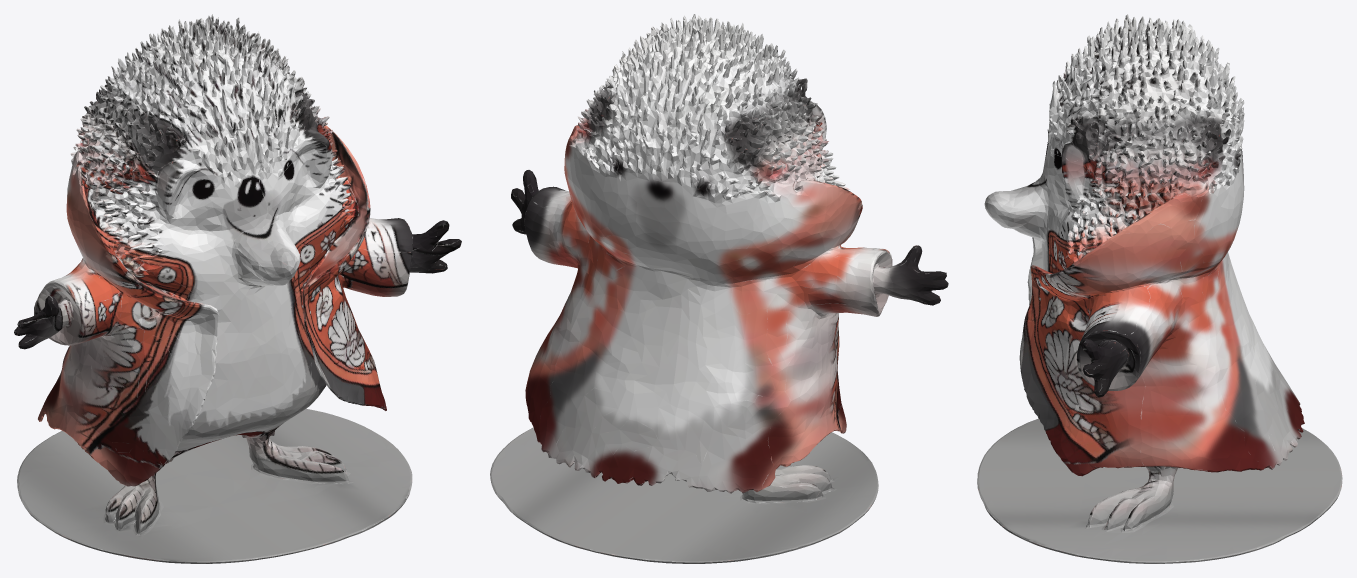
Rendered from quillback_townsperson_local.glb.
3 renders of one model, left to right at view 1: azimuth 30°, elevation 25°; view 2: azimuth 150°, elevation 25°; view 3: azimuth 270°, elevation 25°, orthographic. The views are drawn at different scales.
Visible parts, largest first — view 1: geometry_0; view 2: geometry_0; view 3: geometry_0.
Boxes of the visible parts, left/top/right/bottom form: geometry_0: left=14, top=14, right=461, bottom=563; geometry_0: left=490, top=14, right=948, bottom=563; geometry_0: left=977, top=14, right=1342, bottom=563.
Bounding box in the file's own units: 1.24 × 1.25 × 0.913.
Materials: 1 (1 with a texture image).
